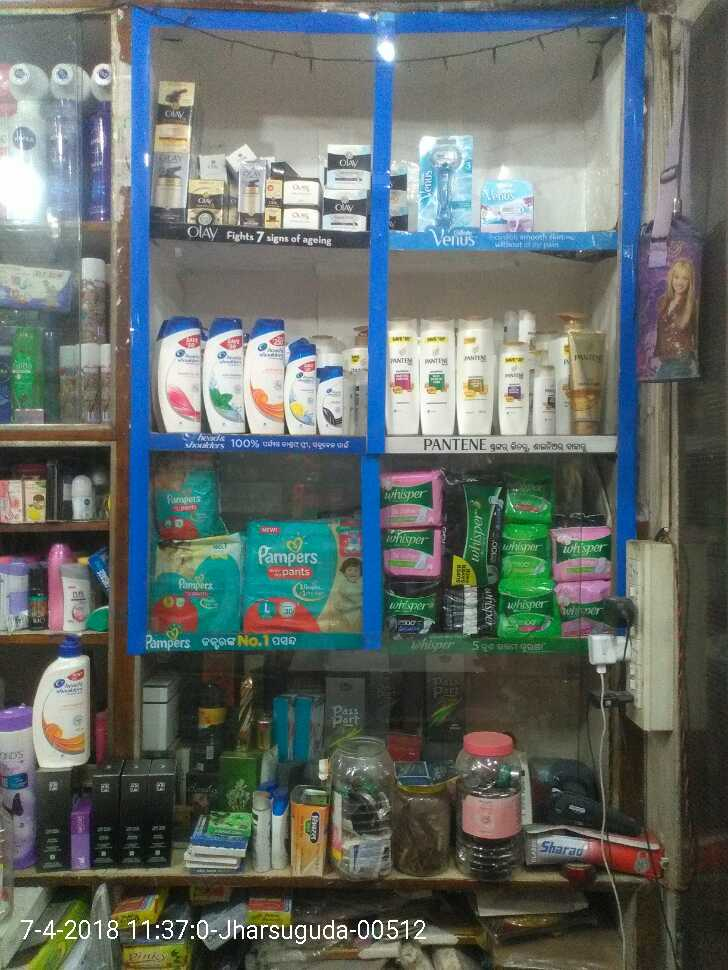venus: (420, 138, 473, 226), (483, 175, 531, 228)
